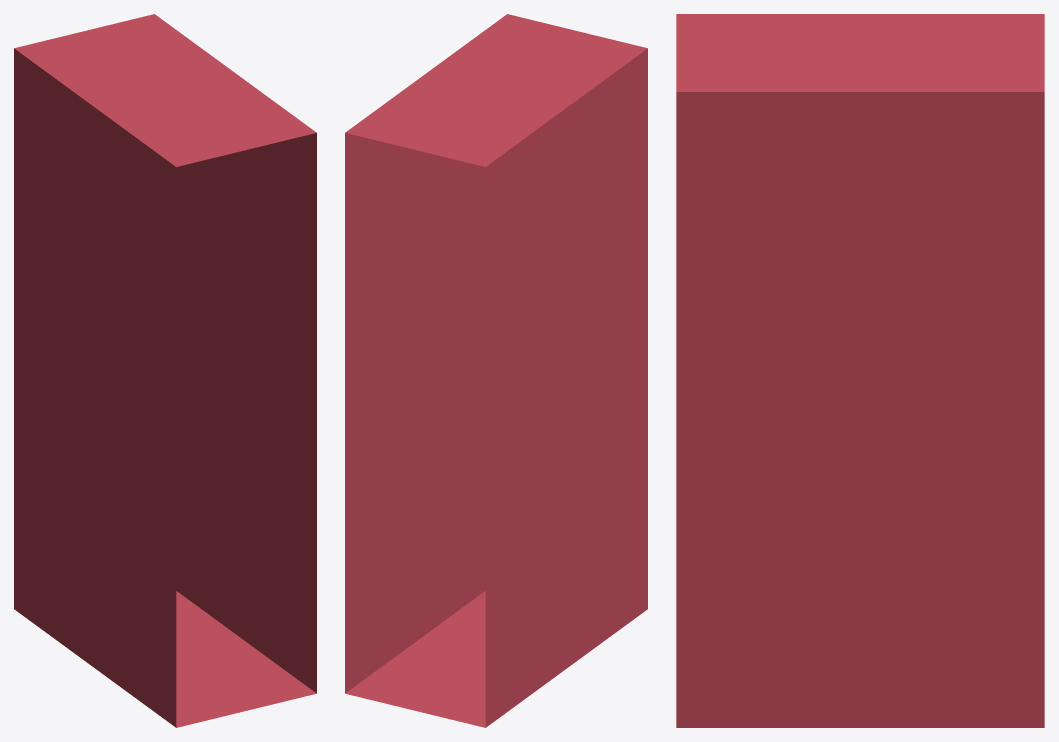
Rendered from redrack.glb.
The picture shows the model from 3 angles, left to right: view 1: azimuth 30°, elevation 25°; view 2: azimuth 150°, elevation 25°; view 3: azimuth 270°, elevation 25°; orthographic projection. The views are drawn at different scales.
Visible parts, largest first — view 1: Mesh_Mesh_head_geo.001_lambert2SG.001; view 2: Mesh_Mesh_head_geo.001_lambert2SG.001; view 3: Mesh_Mesh_head_geo.001_lambert2SG.001.
Part boxes in pixels (<box>): Mesh_Mesh_head_geo.001_lambert2SG.001: <box>14,14,316,727</box>; Mesh_Mesh_head_geo.001_lambert2SG.001: <box>345,14,647,727</box>; Mesh_Mesh_head_geo.001_lambert2SG.001: <box>676,14,1044,727</box>.
Size of the model in its own units: 102 by 387 by 203.
